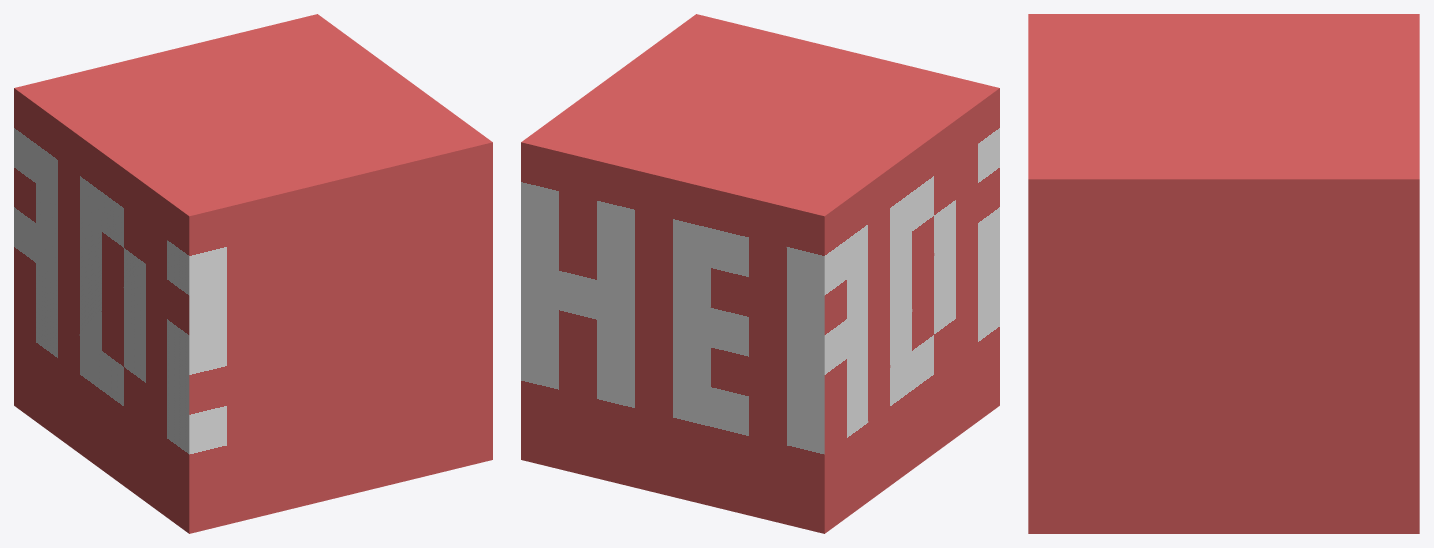
The model's file is edit_skin_head.obj.
The picture shows the model from 3 angles, left to right: view 1: azimuth 30°, elevation 25°; view 2: azimuth 150°, elevation 25°; view 3: azimuth 270°, elevation 25°; orthographic projection. The views are drawn at different scales.
Parts seen in each view (by area): view 1: head; view 2: head; view 3: head.
Boxes of the visible parts, bbox=[...] form: head: bbox=[14, 14, 492, 533]; head: bbox=[521, 14, 999, 533]; head: bbox=[1028, 14, 1419, 533].
Bounding box in the file's own units: 4.03 × 4.03 × 4.03.
